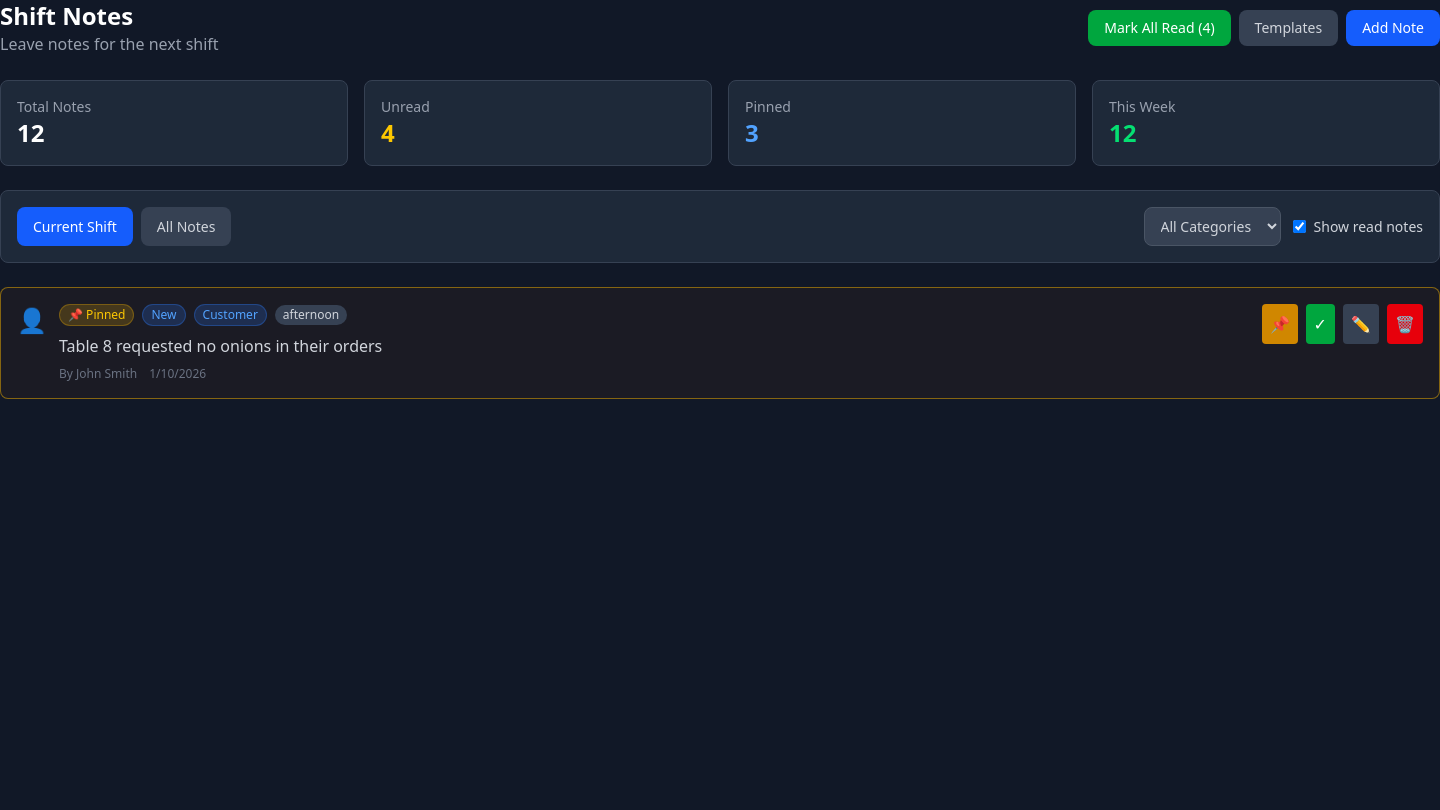
Test case: Notes Page › opens create note modal when clicking Add Note
Click the button "Add Note". click: point(1393, 28)
box: [1346,10,1439,46]
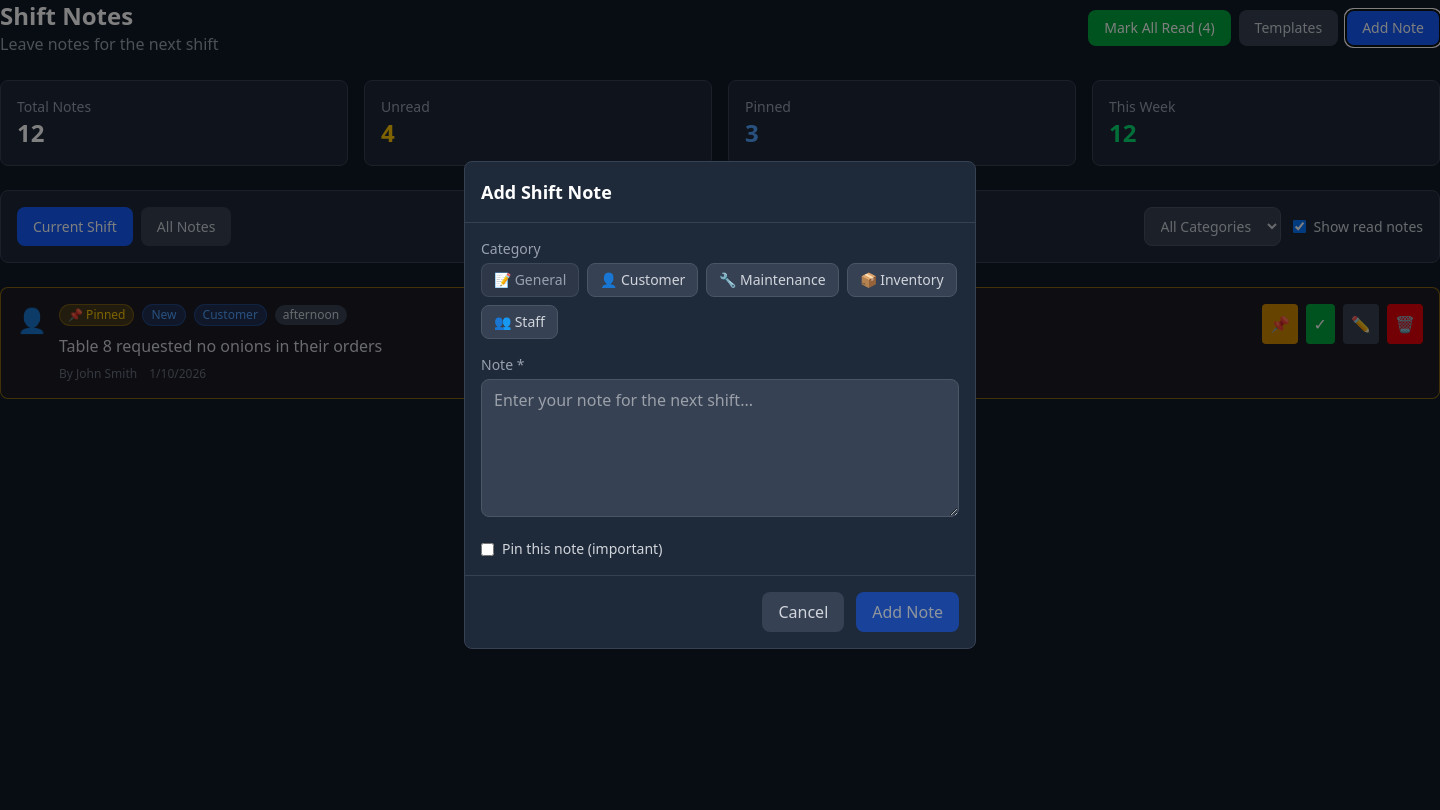
Now the heading "Add Shift Note" is shown, box [481,180,612,204]
